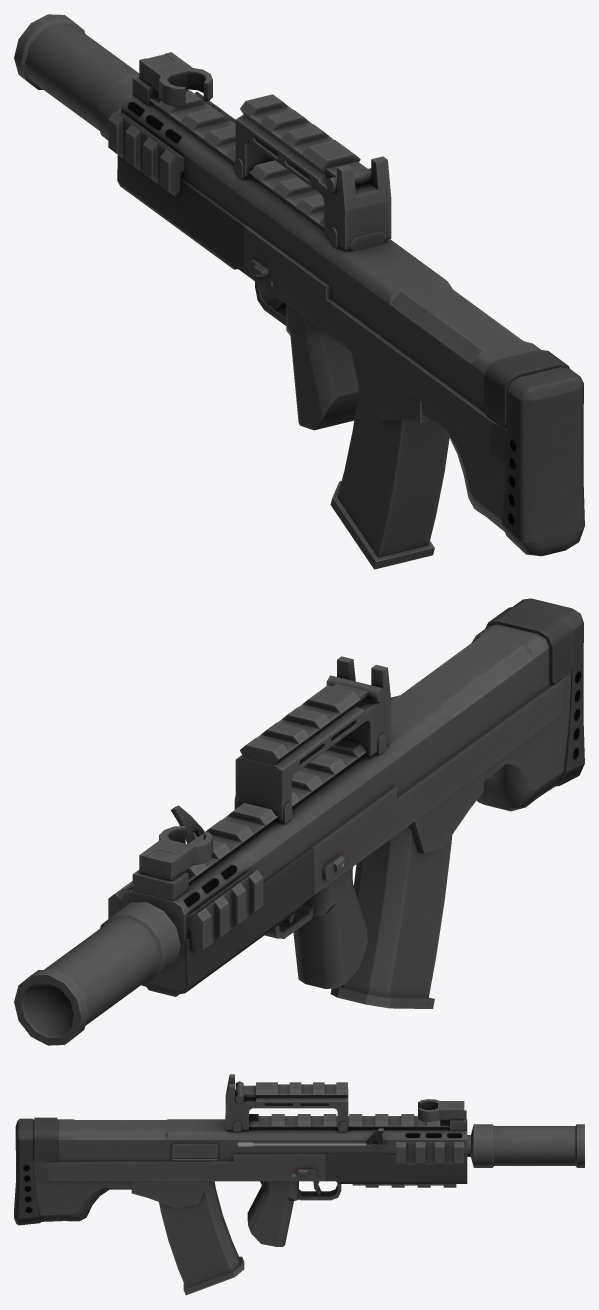
The model's file is IG_Gun_ASh.fbx.
The picture shows the model from 3 angles, top to bottom: view 1: azimuth 30°, elevation 25°; view 2: azimuth 150°, elevation 25°; view 3: azimuth 270°, elevation 25°; orthographic projection. The views are drawn at different scales.
Visible parts, largest first — view 1: WPN_Ash_12, backup; view 2: WPN_Ash_12, backup; view 3: WPN_Ash_12, backup.
Boxes of the visible parts, left/top/right/bottom form: WPN_Ash_12: left=108, top=52, right=584, bottom=569; backup: left=14, top=14, right=139, bottom=140; WPN_Ash_12: left=108, top=598, right=584, bottom=1008; backup: left=14, top=902, right=180, bottom=1045; WPN_Ash_12: left=14, top=1074, right=467, bottom=1295; backup: left=467, top=1124, right=584, bottom=1167.
Bounding box in the file's own units: 0.1558 × 0.527 × 1.32.
